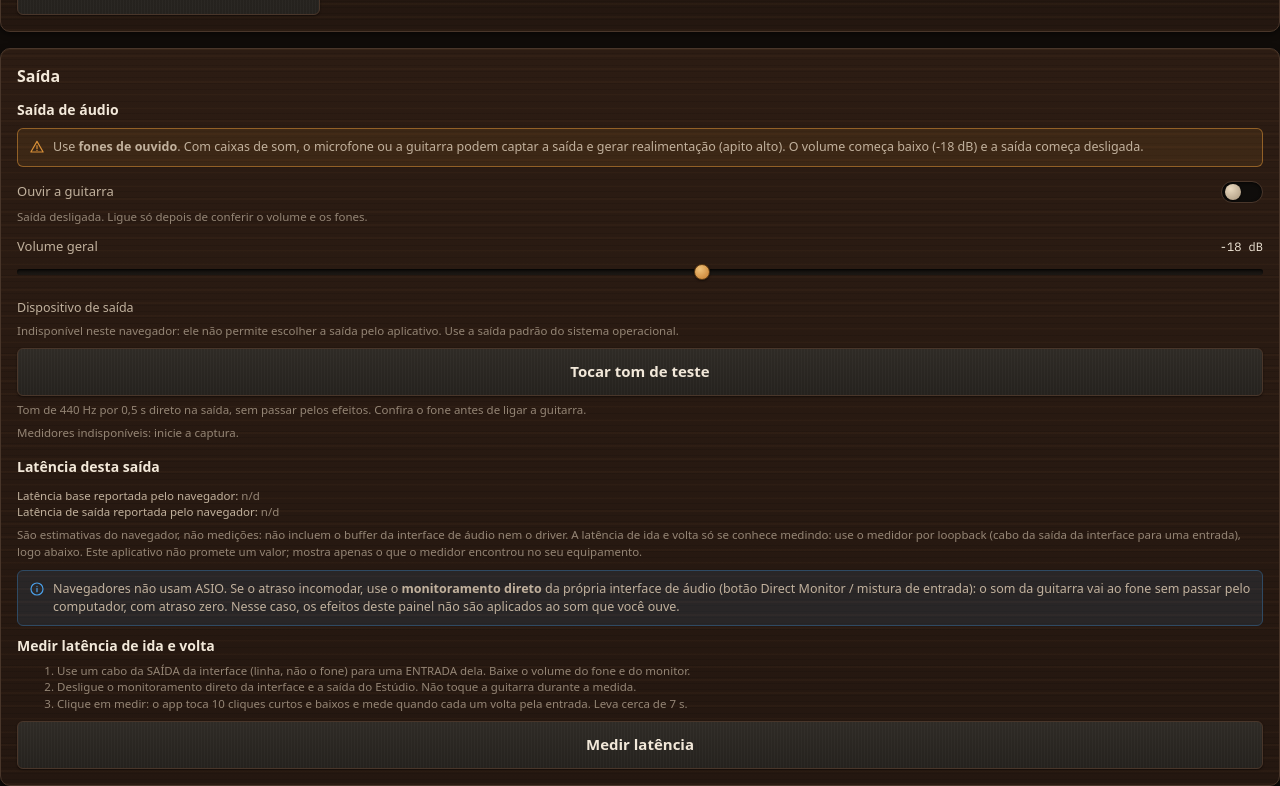
Test case: Medidor de latência por loopback (interface) › sucesso: mostra mediana, mínimo, máximo e as ressalvas, sem prometer o valor para outro equipamento
(page scrolled)
Step 1. Click the button with test id "loopback-btn" → (640, 745), box [17, 721, 1263, 769]
(page scrolled)
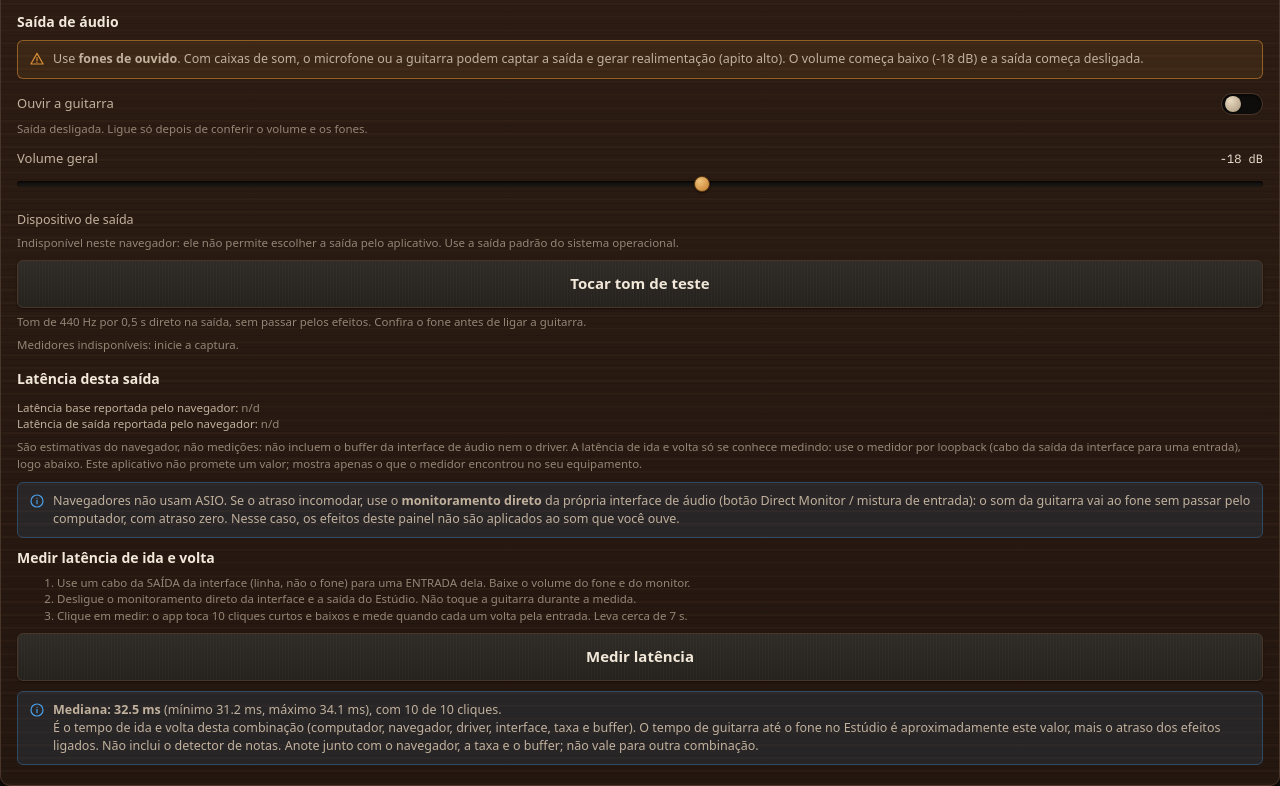
Expected: the message with test id "loopback-result" shows "Mediana: 32.5 ms", [17, 690, 1263, 765]
Expected: the message with test id "loopback-result" shows "mínimo 31.2 ms", [17, 690, 1263, 765]
Expected: the message with test id "loopback-result" shows "máximo 34.1 ms", [17, 690, 1263, 765]
